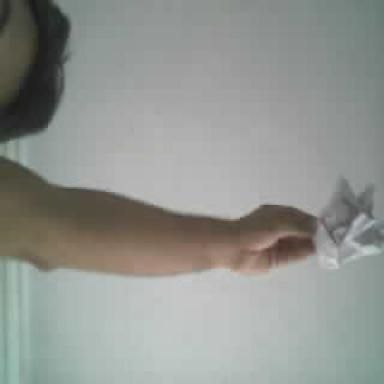paper: (316, 179, 383, 267)
